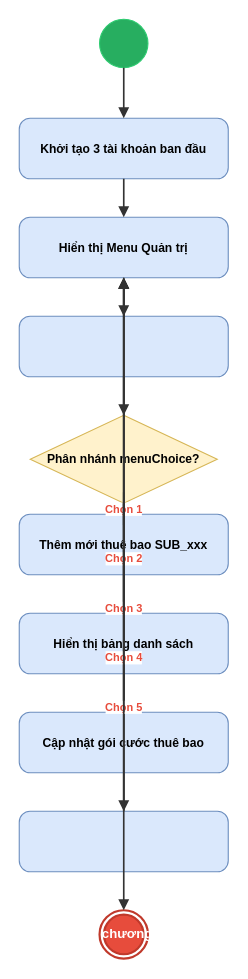
Some shapes in this 248 by 979 pixel diagram are drawn without their labels. The box of each missing label's shape, as (x1, y1, x2, y2) in pixels:
Khởi động CLI RikkeiStream: (98, 18, 148, 68)
Nhập lựa chọn menuChoice: (18, 315, 228, 377)
Xóa thuê bao khỏi mảng: (18, 810, 228, 872)
